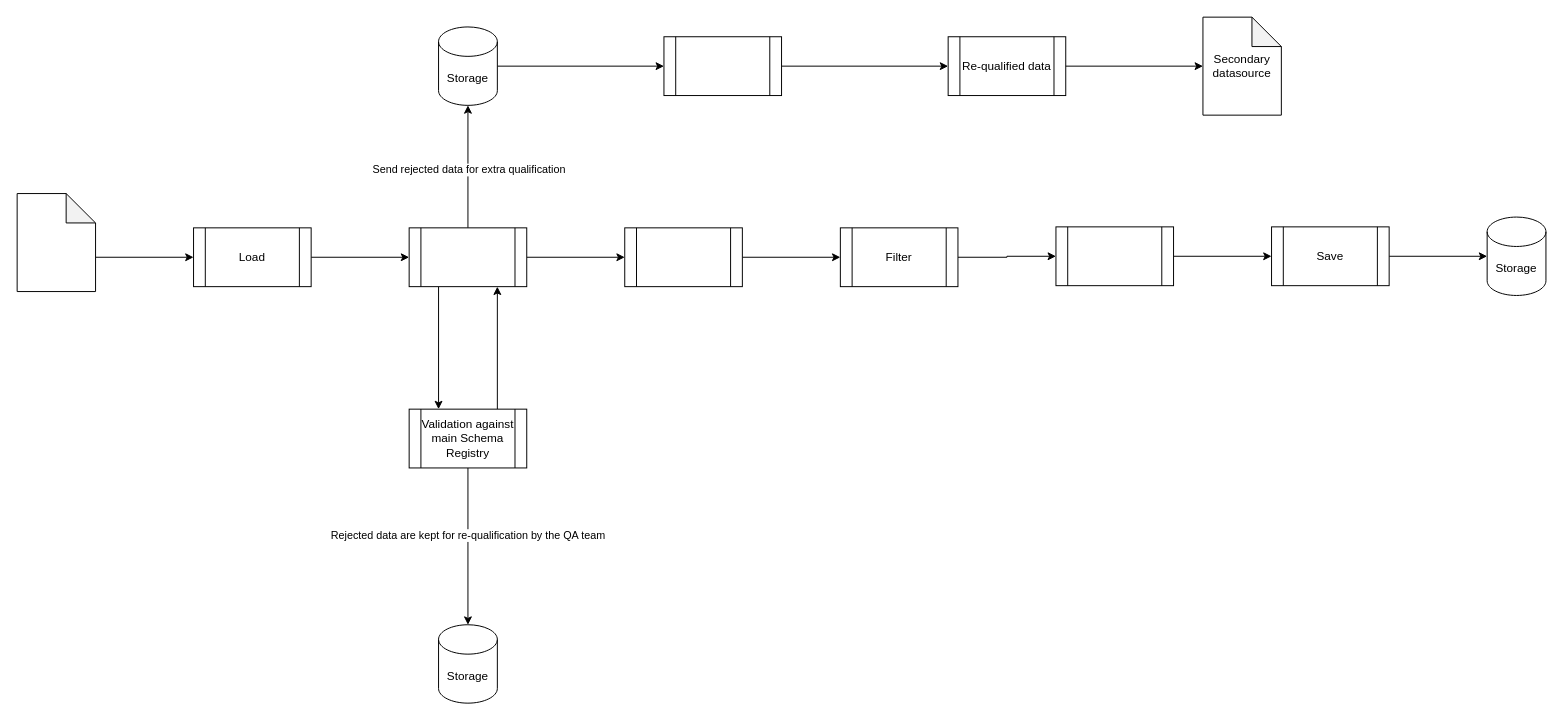
Some shapes in this 1563 by 720 pixel diagram are drawn without their labels. Each missing label, with the centre of its shape:
Clean: point (467, 257)
ML model: point (722, 66)
Normalization: point (683, 257)
Prepare: point (1114, 256)
Source: point (56, 242)
